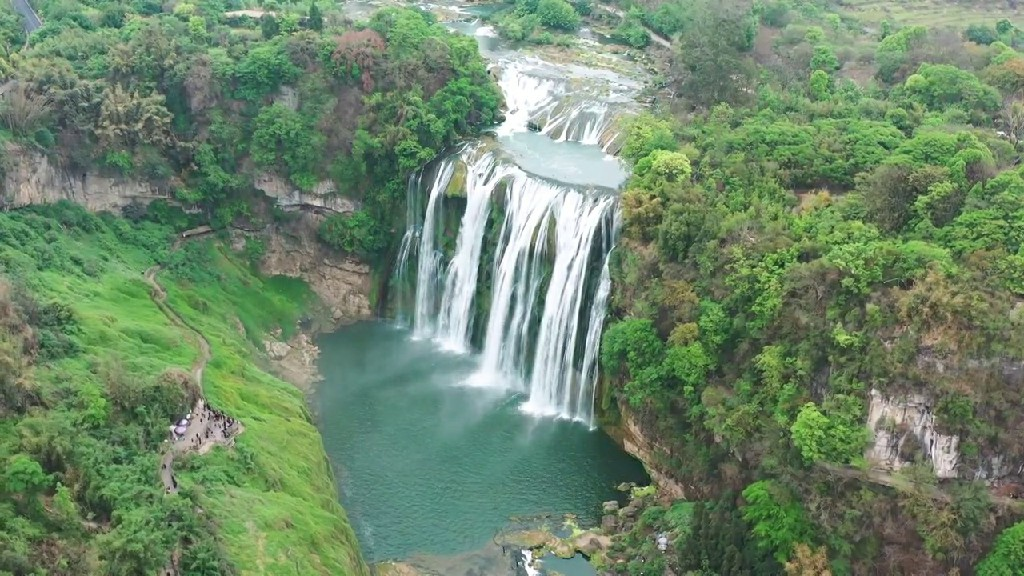Huangguoshu: (398, 86, 625, 430)
